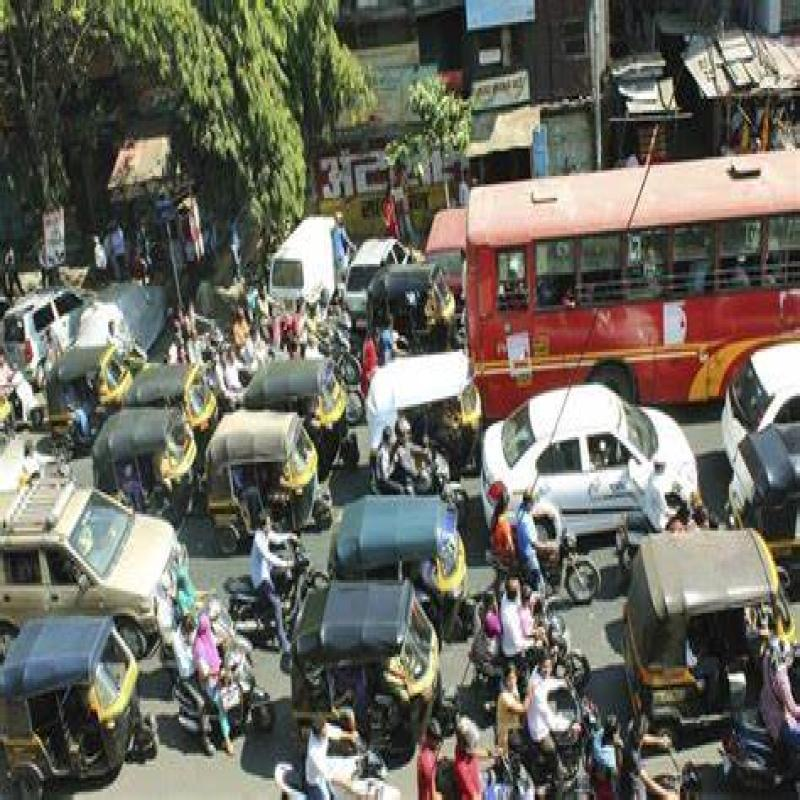auto: (617, 533, 800, 741), (0, 598, 162, 793), (324, 481, 507, 646), (286, 566, 439, 763), (200, 401, 336, 548), (76, 406, 203, 523), (243, 338, 361, 453), (128, 346, 227, 470), (53, 328, 127, 454)
